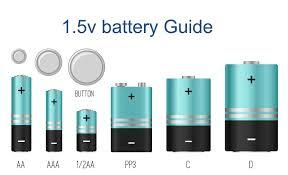9V: (109, 77, 154, 157)
AA: (8, 71, 34, 154)
AAA: (44, 85, 64, 155)
